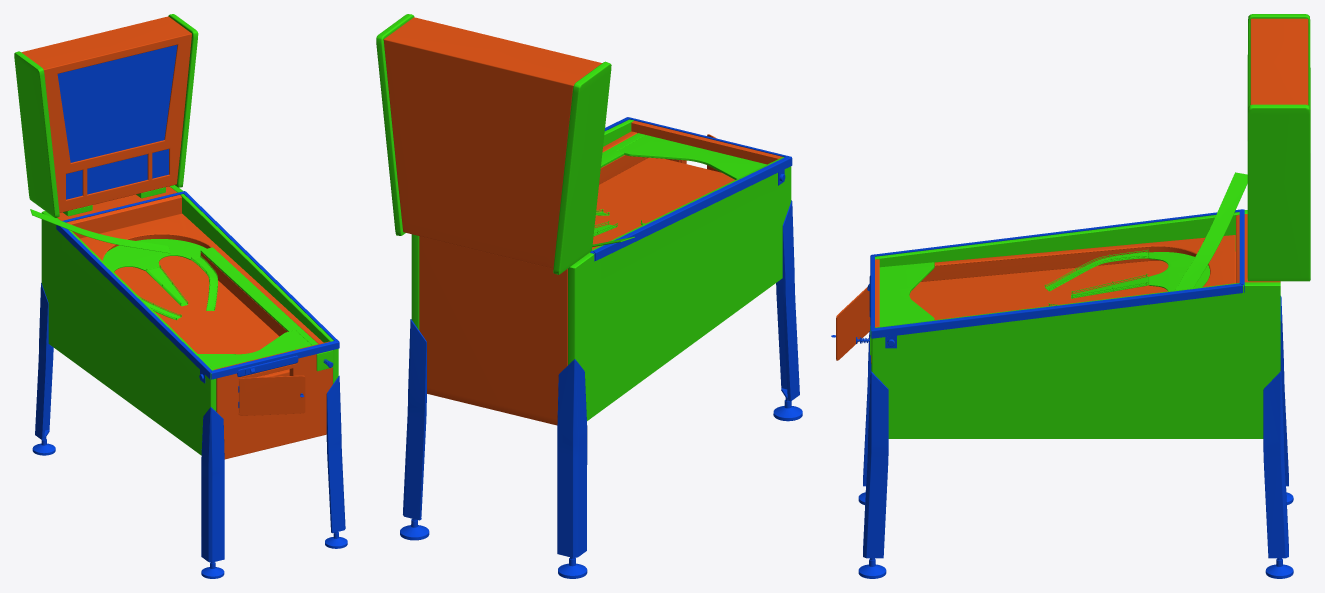
Rendered from flipper_ig_test.fbx.
3 views of the same model, side by side, from view 1: azimuth 30°, elevation 25°; view 2: azimuth 150°, elevation 25°; view 3: azimuth 270°, elevation 25° (orthographic). The views are drawn at different scales.
Visible parts, largest first — view 1: FLIPPER_IG_TEST; view 2: FLIPPER_IG_TEST; view 3: FLIPPER_IG_TEST.
Part boxes in pixels (<box>): FLIPPER_IG_TEST: <box>14,14,347,578</box>; FLIPPER_IG_TEST: <box>376,14,802,578</box>; FLIPPER_IG_TEST: <box>831,14,1310,578</box>.
Size of the model in its own units: 82.86 by 182 by 166.
